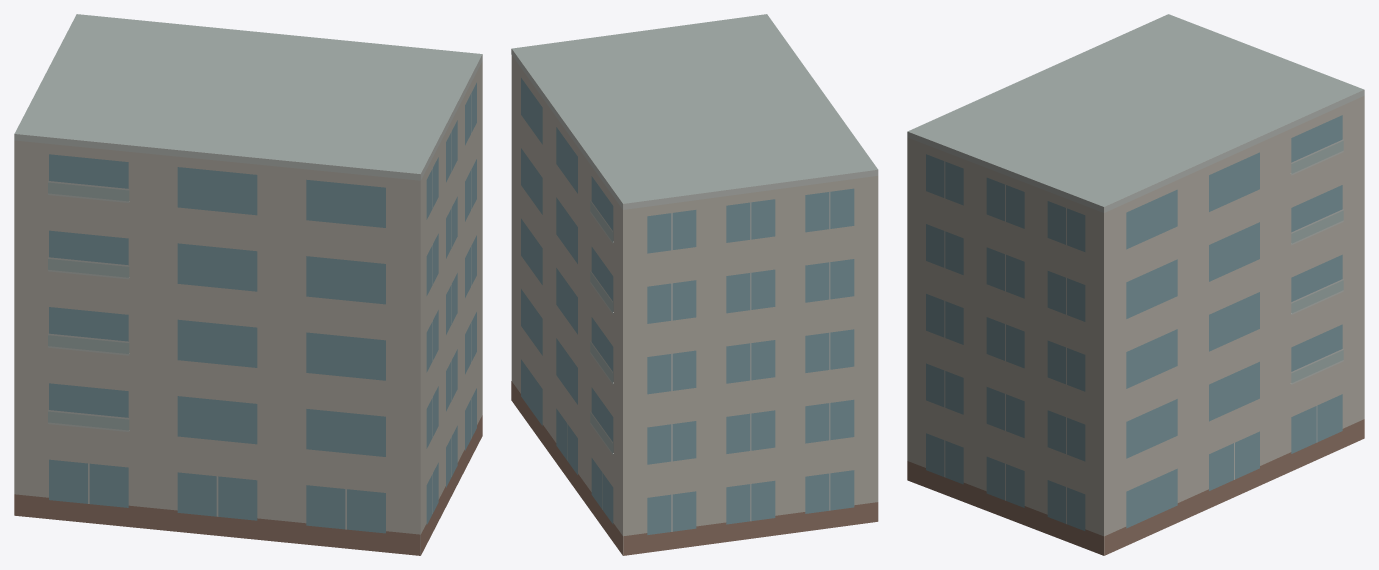
Rendered from survey-upis-32888372.glb.
The picture shows the model from 3 angles, left to right: view 1: azimuth 30°, elevation 25°; view 2: azimuth 150°, elevation 25°; view 3: azimuth 270°, elevation 25°; orthographic projection. The views are drawn at different scales.
Visible parts, largest first — view 1: survey-upis-32888372.tmp; view 2: survey-upis-32888372.tmp; view 3: survey-upis-32888372.tmp.
Boxes of the visible parts, x1=… form: survey-upis-32888372.tmp: x1=14, y1=14, x2=482, y2=555; survey-upis-32888372.tmp: x1=511, y1=14, x2=878, y2=555; survey-upis-32888372.tmp: x1=907, y1=14, x2=1364, y2=555.
Size of the model in its own units: 16.86 by 14.2 by 16.87.
